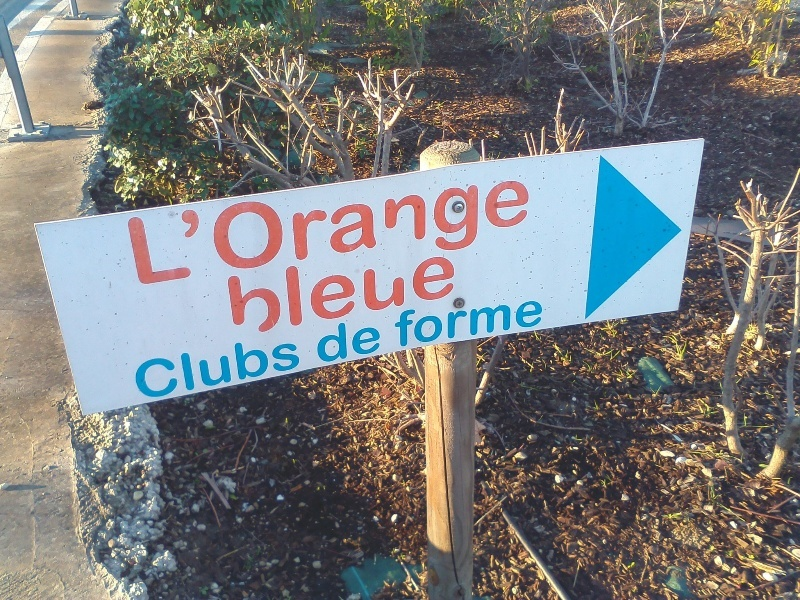text: (129, 165, 144, 287), (145, 165, 160, 287), (161, 165, 176, 287), (177, 165, 192, 287), (193, 165, 208, 287), (209, 165, 224, 287), (225, 165, 240, 287), (241, 165, 256, 287), (257, 165, 272, 287), (273, 165, 288, 287), (289, 165, 304, 287), (305, 165, 320, 287), (321, 165, 336, 287), (337, 165, 352, 287), (353, 165, 368, 287), (369, 165, 384, 287), (385, 165, 400, 287), (401, 165, 416, 287), (417, 165, 432, 287), (433, 165, 448, 287), (449, 165, 464, 287), (465, 165, 480, 287), (481, 165, 496, 287), (497, 165, 512, 287), (513, 165, 528, 287), (241, 244, 256, 339), (257, 244, 272, 339), (273, 244, 288, 339), (289, 244, 304, 339), (305, 244, 320, 339), (321, 244, 336, 339), (337, 244, 352, 339), (353, 244, 368, 339), (369, 244, 384, 339), (385, 244, 400, 339), (401, 244, 416, 339), (417, 244, 432, 339), (433, 244, 448, 339), (449, 244, 462, 339), (228, 244, 240, 339), (145, 329, 160, 402), (161, 329, 176, 402), (177, 329, 192, 402), (193, 329, 208, 402), (209, 329, 224, 402), (225, 329, 240, 402), (241, 329, 256, 402), (257, 329, 272, 402), (273, 329, 288, 402), (401, 285, 416, 349), (417, 285, 432, 349), (433, 285, 448, 349), (449, 285, 464, 349), (465, 285, 480, 349), (481, 285, 496, 349), (497, 285, 512, 349), (513, 285, 528, 349), (289, 329, 302, 402), (529, 285, 543, 349), (132, 329, 144, 402), (321, 314, 336, 365), (337, 314, 352, 365), (353, 314, 368, 365), (529, 165, 535, 287), (369, 314, 382, 365), (395, 285, 400, 349), (316, 314, 320, 365), (127, 165, 128, 287)
